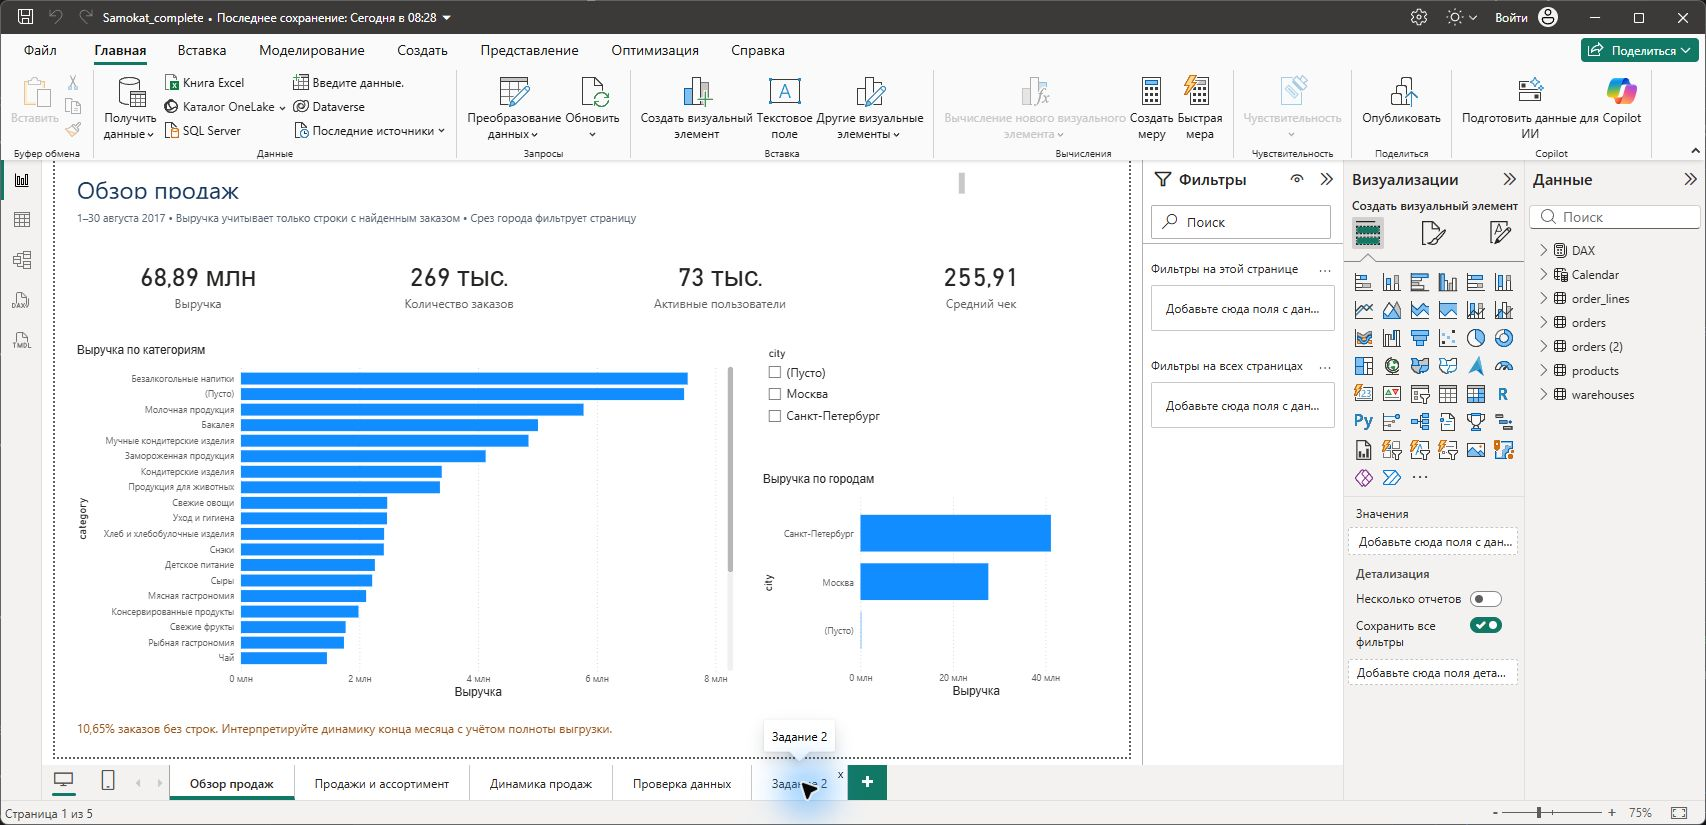

Layout of this report page (visuals, bound fields, positions):
{"tool":"powerbi","page":{"name":"Обзор продаж","canvas":[1440,800],"ordinal":0},"visuals":[{"type":"textbox","box":[24,12,1200,45],"z":0},{"type":"textbox","box":[24,61,1380,40],"z":1000},{"type":"card","fields":{"Values":["DAX.Выручка"]},"box":[24,110,335,110],"z":2000},{"type":"card","fields":{"Values":["DAX.Количество заказов"]},"box":[374,110,335,110],"z":3000},{"type":"card","fields":{"Values":["DAX.Активные пользователи"]},"box":[724,110,335,110],"z":4000},{"type":"card","fields":{"Values":["DAX.Средний чек"]},"box":[1074,110,335,110],"z":5000},{"type":"clusteredBarChart","title":"Выручка по категориям","fields":{"Category":["products.category"],"Y":["DAX.Выручка"]},"box":[24,246,890,480],"z":6000},{"type":"clusteredBarChart","title":"Выручка по городам","fields":{"Category":["warehouses.city"],"Y":["DAX.Выручка"]},"box":[944,420,470,306],"z":7000},{"type":"slicer","fields":{"Values":["warehouses.city"]},"box":[944,246,470,155],"z":8000},{"type":"textbox","box":[24,747,1380,40],"z":9000}]}

Visuals, with their boxes on the page's 1440x800 design canvas (x1, y1, x2, y2). These are canvas units, not pixel positions in the 1706x825 screenshot, which may show the page scaled, cropped or inside an application window:
textbox: bbox=[24, 12, 1224, 57]
textbox: bbox=[24, 61, 1404, 101]
card - DAX.Выручка: bbox=[24, 110, 359, 220]
card - DAX.Количество заказов: bbox=[374, 110, 709, 220]
card - DAX.Активные пользователи: bbox=[724, 110, 1059, 220]
card - DAX.Средний чек: bbox=[1074, 110, 1409, 220]
"Выручка по категориям" clusteredBarChart: bbox=[24, 246, 914, 726]
"Выручка по городам" clusteredBarChart: bbox=[944, 420, 1414, 726]
slicer - warehouses.city: bbox=[944, 246, 1414, 401]
textbox: bbox=[24, 747, 1404, 787]
